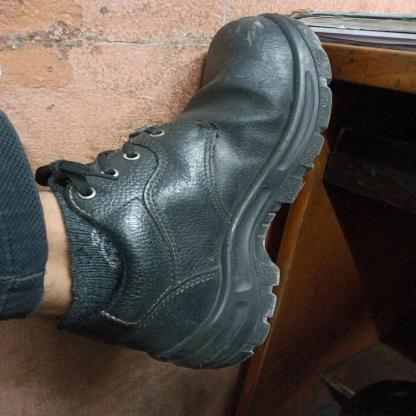bota: (44, 11, 339, 373)
